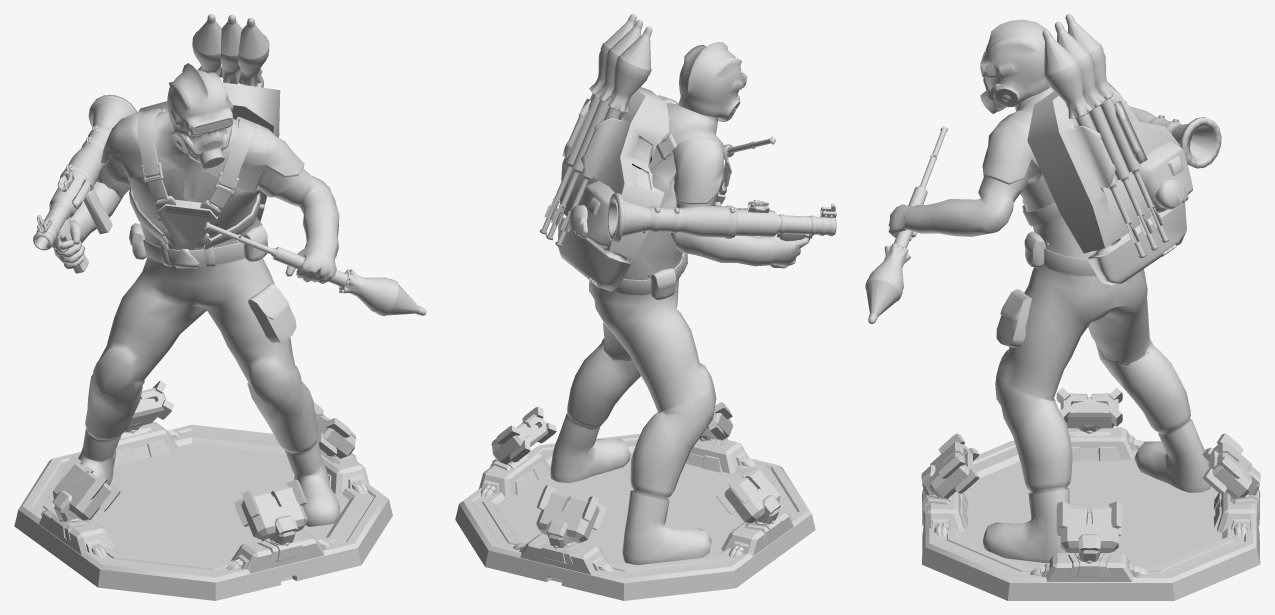
Rendered from RPGBotSpawner.glb.
3 renders of one model, left to right at view 1: azimuth 30°, elevation 25°; view 2: azimuth 150°, elevation 25°; view 3: azimuth 270°, elevation 25°, orthographic. The views are drawn at different scales.
Visible parts, largest first — view 1: RPGBotSpawnerHologram; view 2: RPGBotSpawnerHologram; view 3: RPGBotSpawnerHologram.
Part boxes in pixels (x1=…): RPGBotSpawnerHologram: x1=14, y1=14, x2=426, y2=600; RPGBotSpawnerHologram: x1=455, y1=14, x2=836, y2=600; RPGBotSpawnerHologram: x1=865, y1=14, x2=1260, y2=600.
Size of the model in its own units: 1.24 by 1.81 by 1.26.
3 materials, 2 textured.
